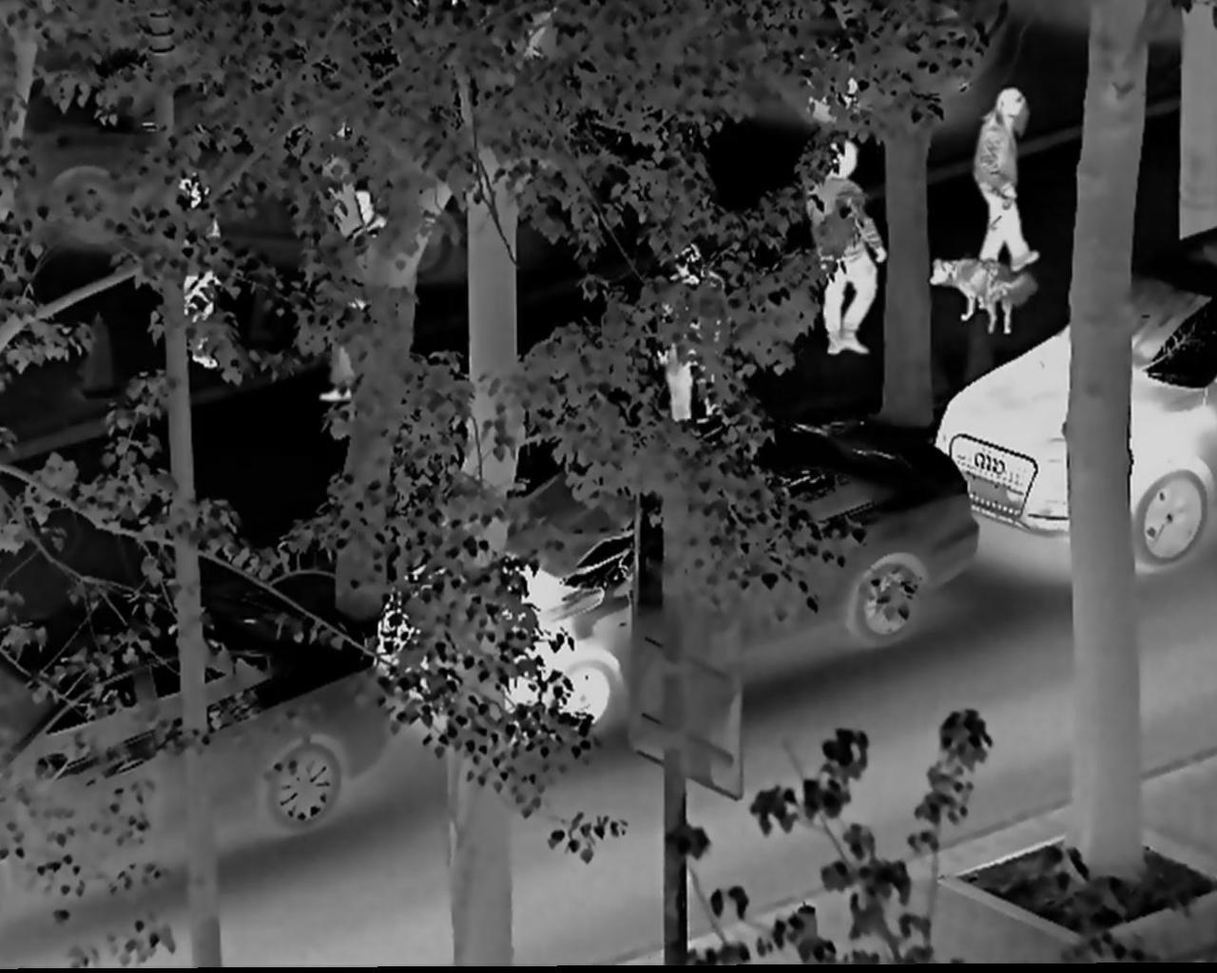person: (799, 135, 886, 374), (962, 67, 1053, 278), (649, 241, 735, 449), (157, 178, 220, 372)
